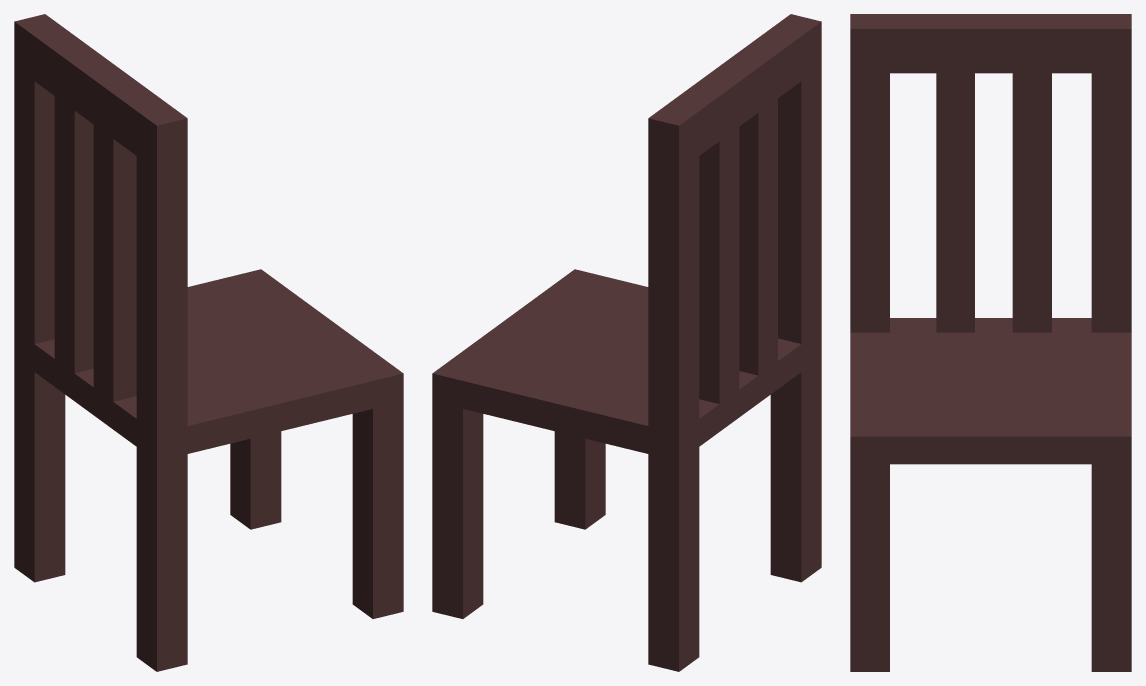
Rendered from Chair.fbx.
The picture shows the model from 3 angles, left to right: view 1: azimuth 30°, elevation 25°; view 2: azimuth 150°, elevation 25°; view 3: azimuth 270°, elevation 25°; orthographic projection.
Parts seen in each view (by area): view 1: pCube1; view 2: pCube1; view 3: pCube1.
Part boxes in pixels (<box>): pCube1: <box>14,14,403,671</box>; pCube1: <box>432,14,821,671</box>; pCube1: <box>850,14,1131,671</box>.
Bounding box in the file's own units: 5.73 × 12.12 × 5.73.
